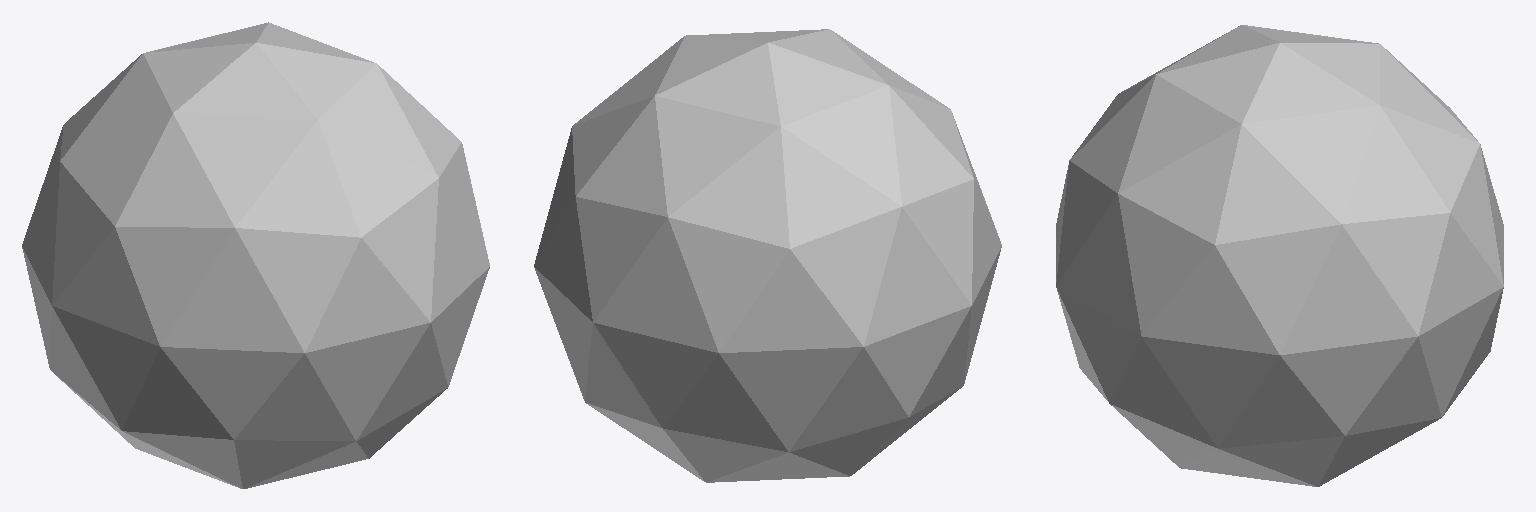
The model's file is firefly1.obj.
The picture shows the model from 3 angles: view 1: azimuth 30°, elevation 25°; view 2: azimuth 150°, elevation 25°; view 3: azimuth 270°, elevation 25°; orthographic projection.
Visible parts, largest first — view 1: Icosphere.002; view 2: Icosphere.002; view 3: Icosphere.002.
Part boxes in pixels (bbox=[...]): Icosphere.002: bbox=[22, 22, 489, 488]; Icosphere.002: bbox=[534, 29, 1001, 482]; Icosphere.002: bbox=[1056, 25, 1503, 486].
Size of the model in its own units: 0.0346 by 0.0346 by 0.0329.